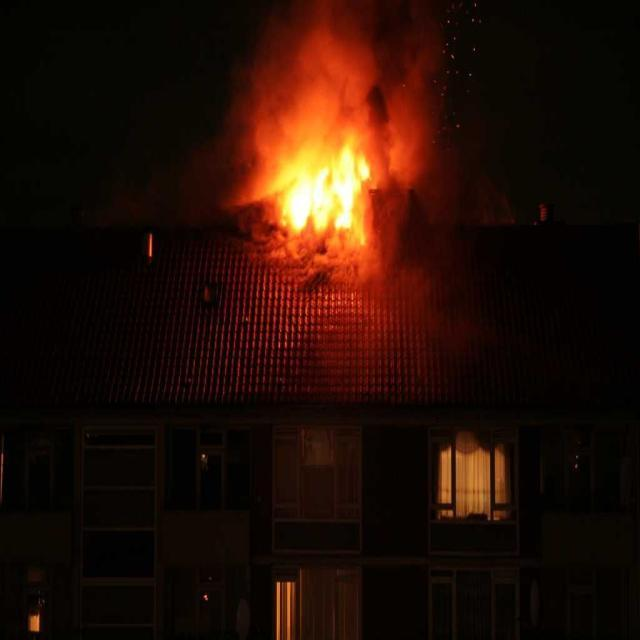Fire: (292, 160, 366, 223)
Smoke: (281, 26, 393, 125)
